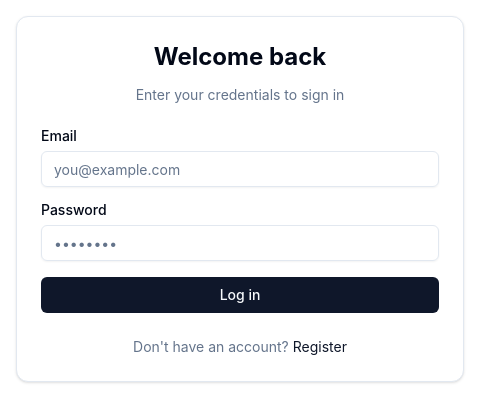
Scenario: Login page › shows loading state while submitting
The image size is (481, 400).
Type "alice@example.com" into the field labelled "Email" at (240, 169), box x1=41 y1=151 x2=439 y2=187
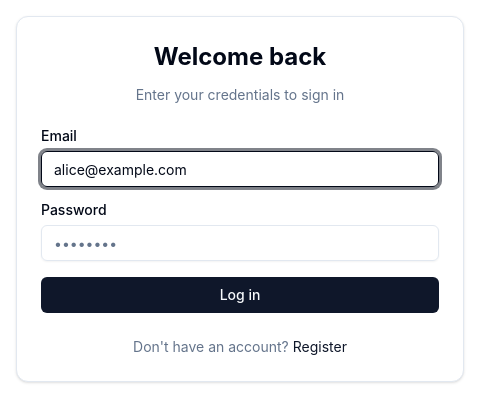
Type "Password123" into the password field labelled "Password" at (240, 243), box x1=41 y1=225 x2=439 y2=261
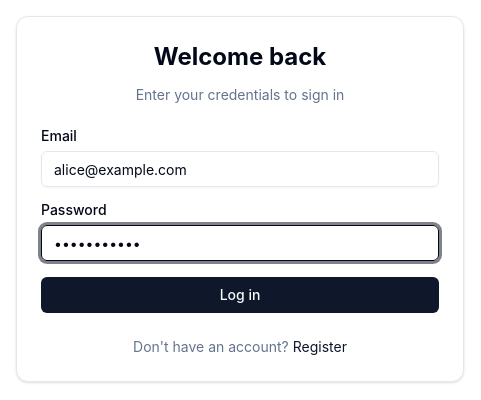
Click the button "Log in" at (240, 295), box x1=41 y1=277 x2=439 y2=313
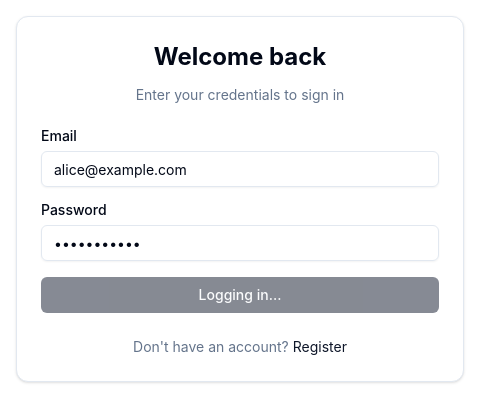
Result: the button "Logging in..." is disabled at x1=41 y1=277 x2=439 y2=313
